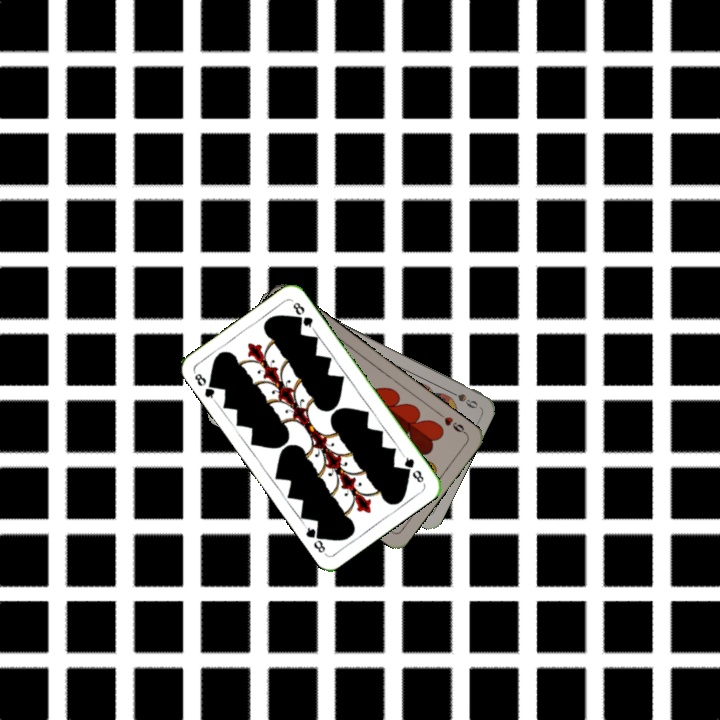G8: (190, 369, 220, 404), (399, 451, 426, 485)
H9: (434, 408, 469, 437)
S9: (443, 385, 480, 411)
